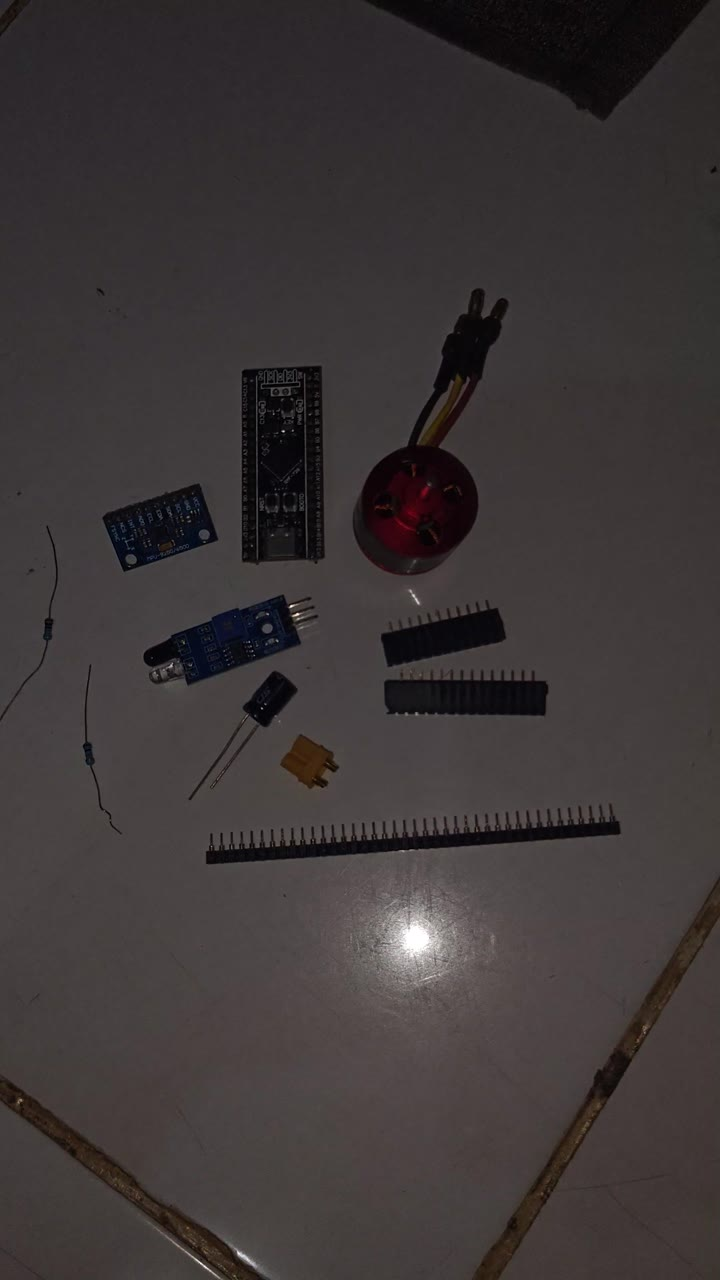bldc_motor: (367, 284, 511, 588)
elco_capacitor: (241, 668, 299, 729)
ir_sensor: (148, 591, 308, 688)
mpu6500: (107, 480, 223, 574)
pin_header: (196, 803, 633, 861), (393, 667, 555, 716), (400, 594, 509, 665)
resistor: (10, 512, 96, 735), (76, 655, 131, 849)
stm32f4: (253, 357, 325, 571)
xt30_female: (278, 731, 341, 791)
